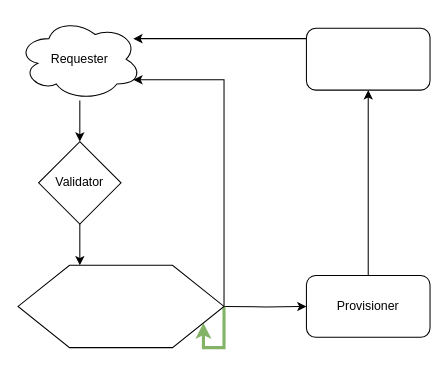
This 448x375 diagram has some shape labels left out. Here are the shapes that lost their labels. From the top down, the box of each, then its label:
(305, 27, 430, 90): Access Granter
(17, 264, 224, 348): Manager
